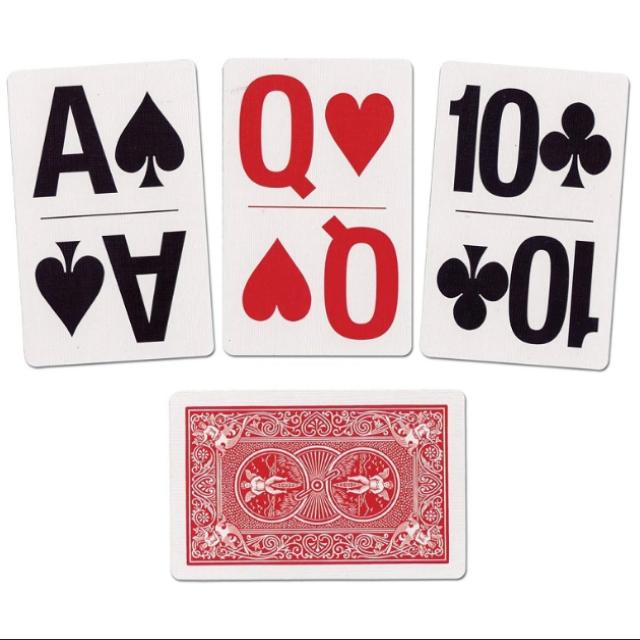Card-10: (421, 60, 628, 368)
Card-A: (10, 62, 211, 362)
Card-Q: (225, 60, 412, 354)
